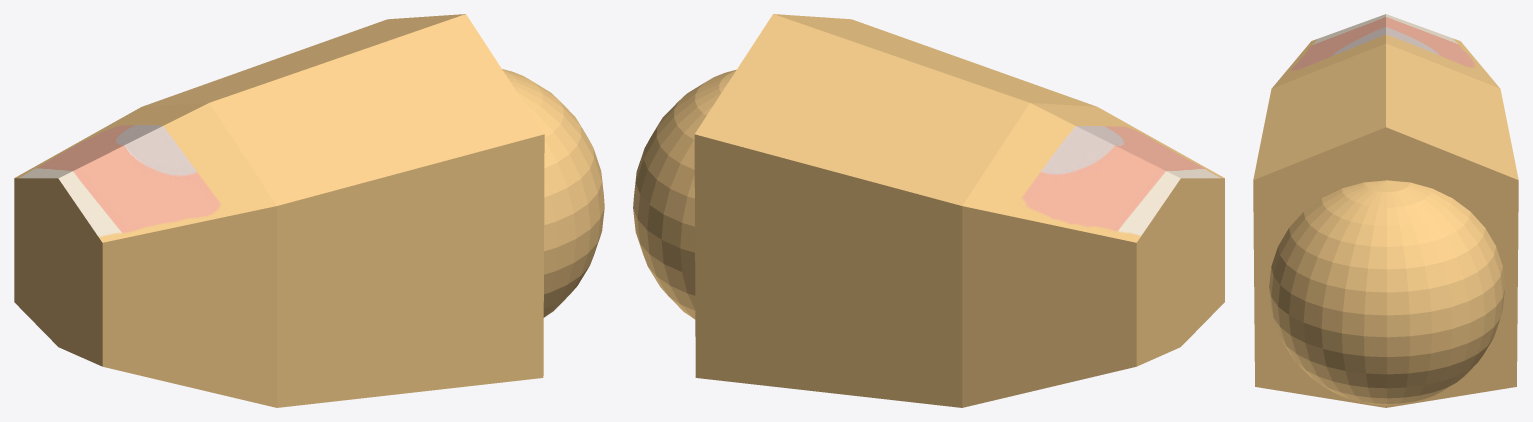
The model's file is R_finger2_1.obj.
3 renders of one model, left to right at view 1: azimuth 30°, elevation 25°; view 2: azimuth 150°, elevation 25°; view 3: azimuth 270°, elevation 25°, orthographic. The views are drawn at different scales.
Visible parts, largest first — view 1: finger2_1球.001_球.026; view 2: finger2_1球.001_球.026; view 3: finger2_1球.001_球.026.
Part boxes in pixels (x1=…): finger2_1球.001_球.026: x1=14, y1=14, x2=604, y2=407; finger2_1球.001_球.026: x1=633, y1=14, x2=1224, y2=407; finger2_1球.001_球.026: x1=1253, y1=14, x2=1518, y2=407.
Size of the model in its own units: 0.6925 by 0.4158 by 0.3564.
